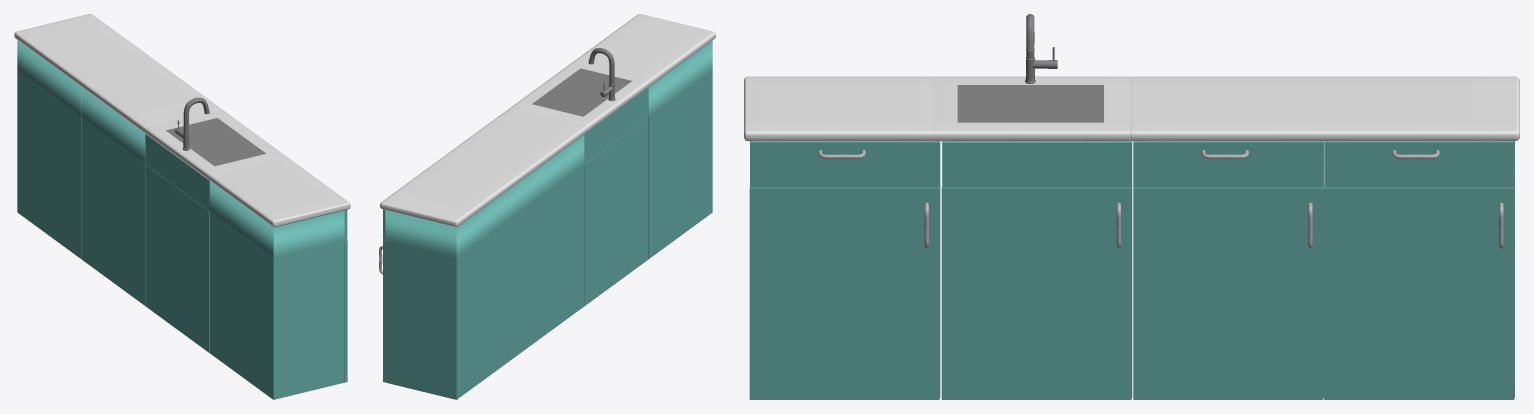
File: Cabinet with faucet Blue .fbx
3 views of the same model, side by side, from view 1: azimuth 30°, elevation 25°; view 2: azimuth 150°, elevation 25°; view 3: azimuth 270°, elevation 25° (orthographic). The views are drawn at different scales.
Visible parts, largest first — view 1: pCube114, pCube125, pCube126, pCube128, pCube122, pCube110, pCube130, pCube119, pCube132, pCube112, pCylinder11; view 2: pCube125, pCube114, pCube126, pCube128, pCube122, pCube130, pCube110, pCube119, pCube132, pCube123, pCylinder11; view 3: pCube123, pCube120, pCube112, pCube129, pCube126, pCube130, pCube110, pCube131, pCube116, pCube115, pCube113.
Part boxes in pixels (x1,y1,x2,y2): pCube114: (209, 181, 344, 399); pCube125: (17, 40, 81, 258); pCube126: (14, 14, 220, 132); pCube128: (145, 164, 209, 352); pCube122: (81, 118, 144, 305); pCube110: (206, 157, 350, 227); pCube130: (144, 109, 287, 180); pCube119: (81, 87, 145, 305); pCube132: (145, 134, 209, 210); pCube112: (344, 240, 347, 382); pCylinder11: (183, 97, 209, 134); pCube125: (385, 181, 520, 399); pCube114: (648, 40, 712, 259); pCube126: (380, 108, 586, 226); pCube128: (584, 118, 648, 306); pCube122: (520, 165, 584, 352); pCube130: (510, 59, 653, 131); pCube110: (577, 14, 715, 86); pCube119: (520, 134, 584, 211); pCube132: (584, 87, 648, 164); pCube123: (383, 239, 385, 382); pCylinder11: (588, 48, 614, 84); pCube123: (1324, 186, 1514, 399); pCube120: (1133, 186, 1323, 399); pCube112: (749, 186, 939, 399); pCube129: (941, 186, 1131, 399); pCube126: (1130, 76, 1519, 141); pCube130: (931, 76, 1130, 141); pCube110: (744, 76, 944, 141); pCube131: (942, 140, 1131, 187); pCube116: (1133, 141, 1322, 187); pCube115: (1324, 141, 1513, 187); pCube113: (750, 141, 939, 187).
Size of the model in its own units: 2.96 by 7.7 by 15.83.
